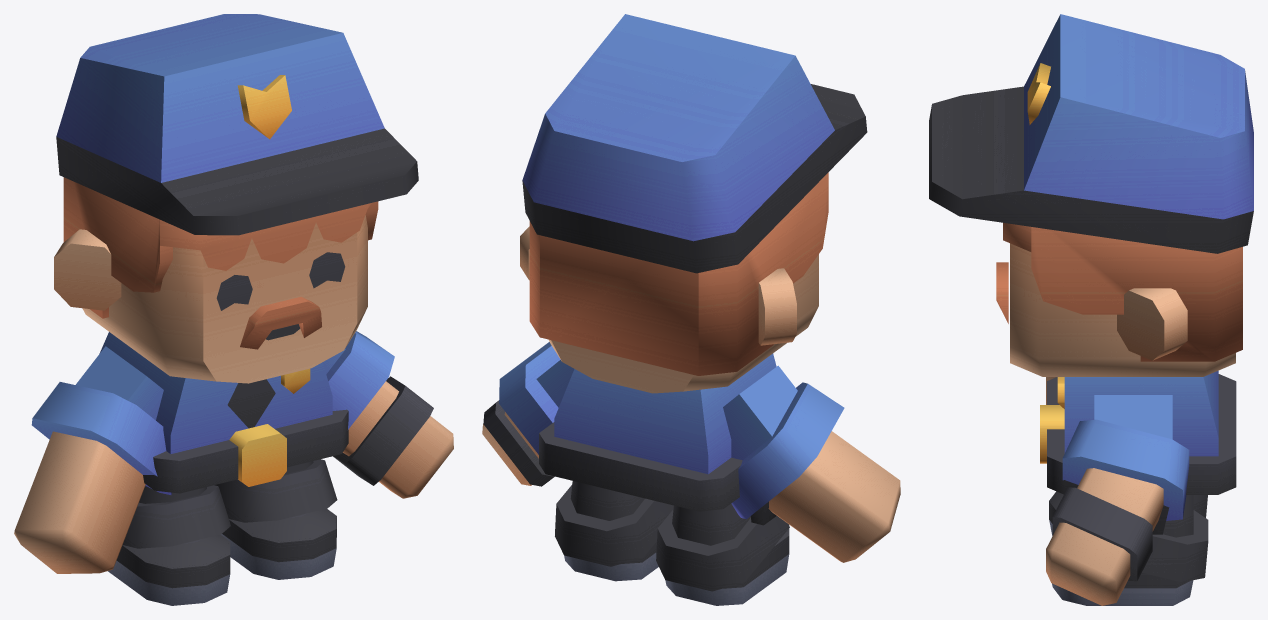
Rendered from character-male-c.glb.
3 views of the same model, side by side, from view 1: azimuth 30°, elevation 25°; view 2: azimuth 150°, elevation 25°; view 3: azimuth 270°, elevation 25° (orthographic). The views are drawn at different scales.
Visible parts, largest first — view 1: body-mesh; view 2: body-mesh; view 3: body-mesh.
Part boxes in pixels (bbox=[...]): body-mesh: bbox=[14, 14, 453, 605]; body-mesh: bbox=[482, 14, 900, 605]; body-mesh: bbox=[929, 14, 1253, 605].
Bounding box in the file's own units: 1.59 × 1.9 × 1.11.
Materials: 1 (1 with a texture image).
